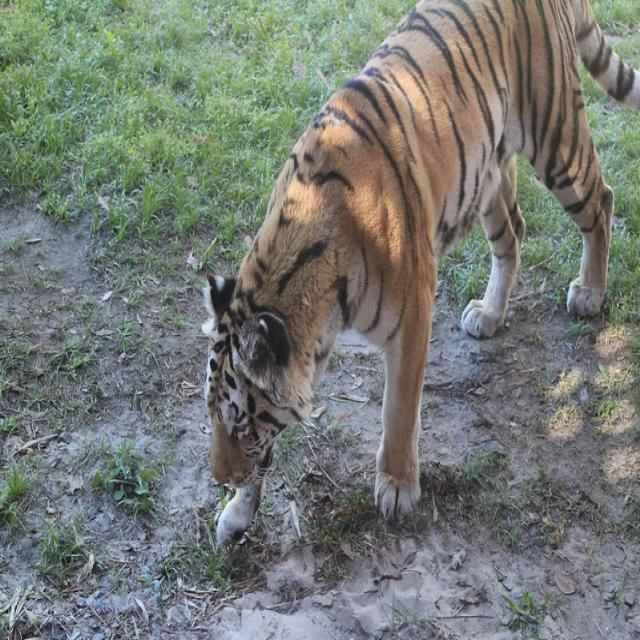Tiger: (197, 1, 634, 550)
